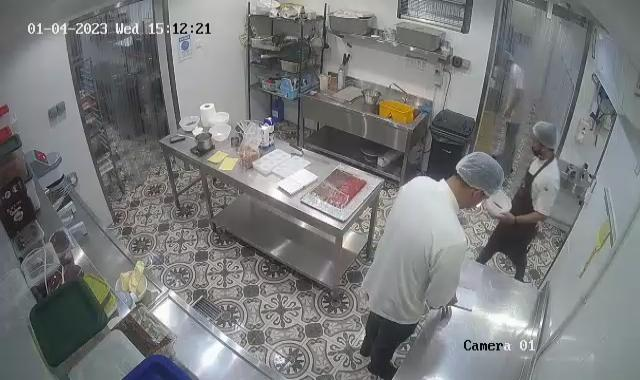hairnet: (455, 150, 505, 198), (530, 119, 557, 154)
